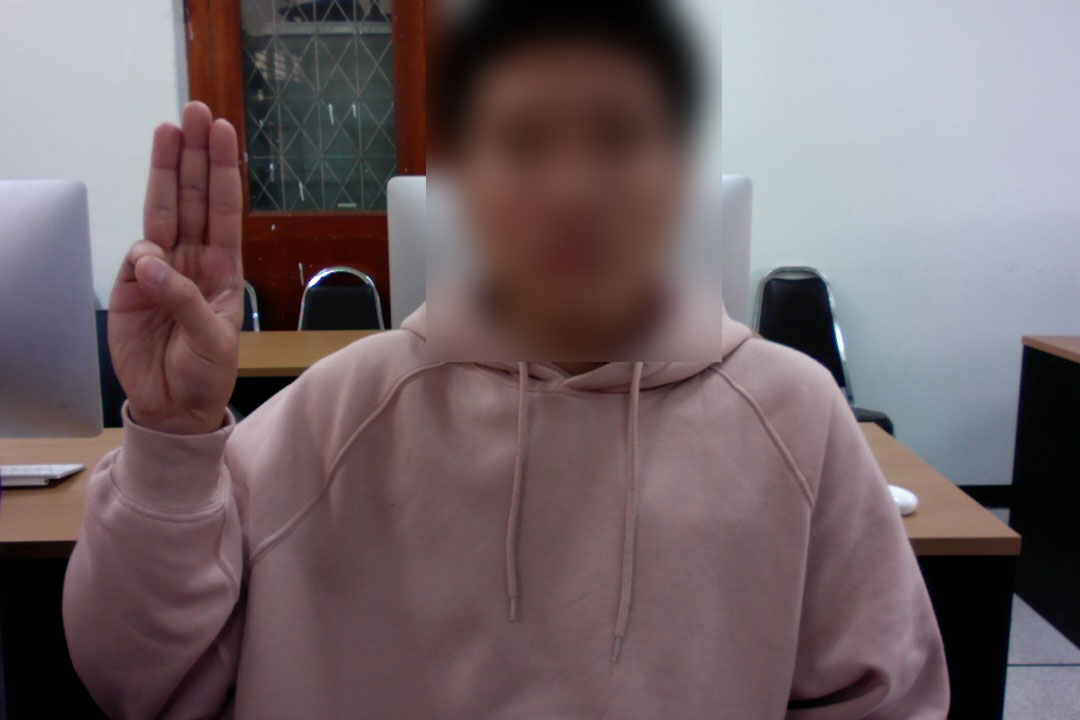wor: (99, 94, 247, 443)
